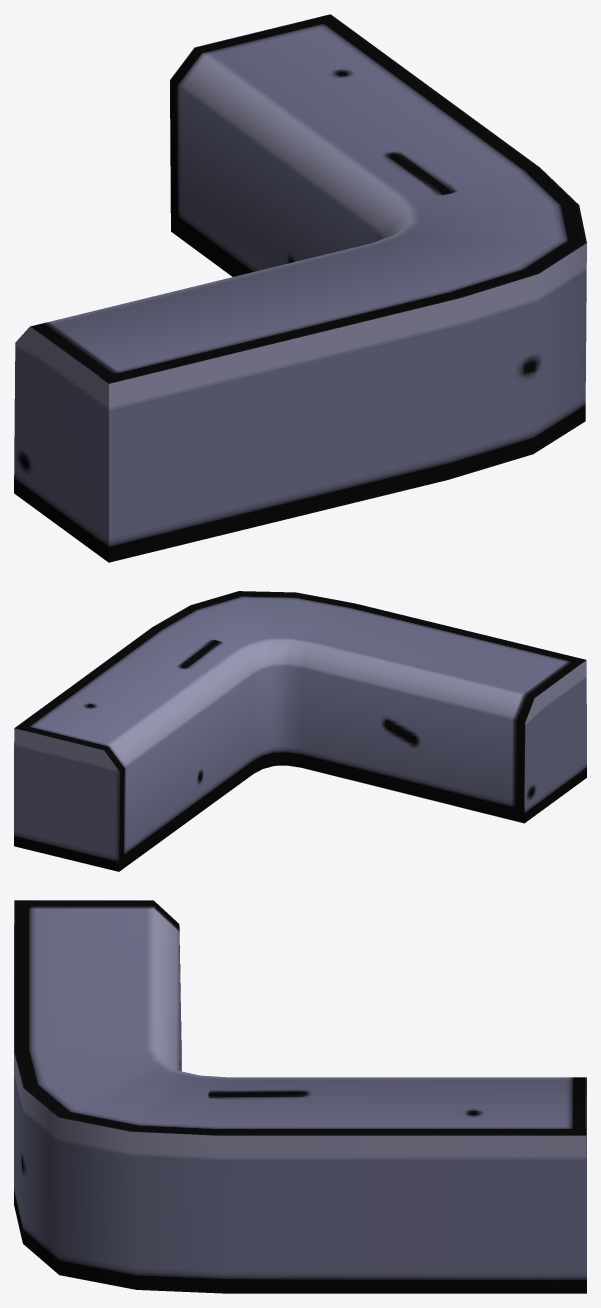
File: inner_corner_curb.fbx
3 views of the same model, one above another, from view 1: azimuth 30°, elevation 25°; view 2: azimuth 150°, elevation 25°; view 3: azimuth 270°, elevation 25° (orthographic). The views are drawn at different scales.
Parts seen in each view (by area): view 1: corner_curb; view 2: corner_curb; view 3: corner_curb.
Boxes of the visible parts, <box> form: corner_curb: <box>14,14,586,562</box>; corner_curb: <box>14,591,586,871</box>; corner_curb: <box>14,900,586,1293</box>.
Size of the model in its own units: 66.09 by 20.7 by 67.97.
